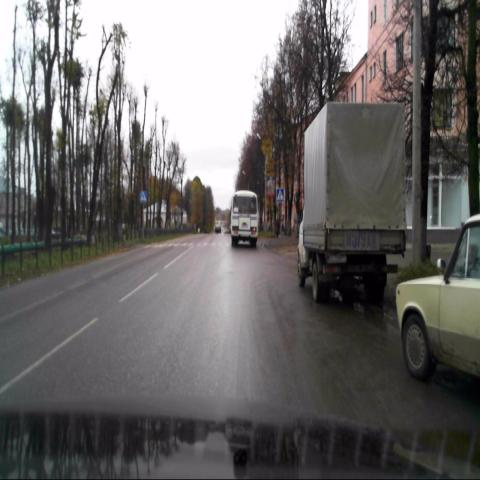5_19_1: (276, 188, 284, 203), (139, 190, 147, 203)
